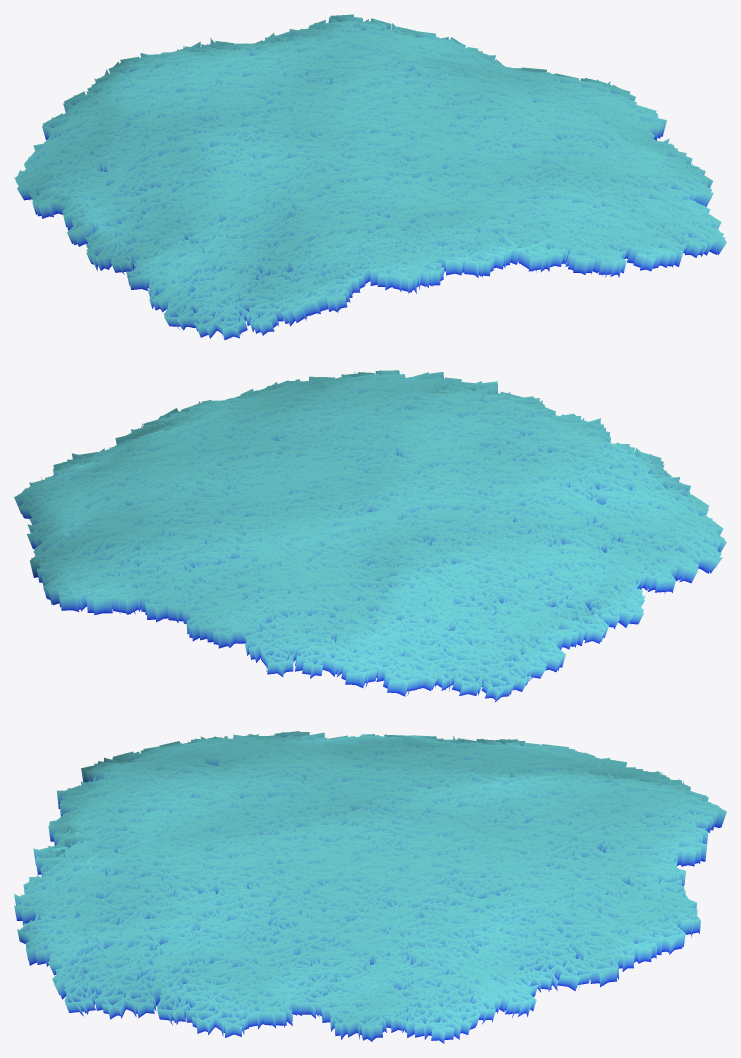
The model's file is SM_Env_Grass_Large_03.FBX.
3 views of the same model, one above another, from view 1: azimuth 30°, elevation 25°; view 2: azimuth 150°, elevation 25°; view 3: azimuth 270°, elevation 25° (orthographic). The views are drawn at different scales.
Visible parts, largest first — view 1: SM_Env_Grass_Large_03; view 2: SM_Env_Grass_Large_03; view 3: SM_Env_Grass_Large_03.
Part boxes in pixels (x1,y1,x2,y2): SM_Env_Grass_Large_03: (14,14,726,339); SM_Env_Grass_Large_03: (14,370,726,702); SM_Env_Grass_Large_03: (14,731,726,1043).
Size of the model in its own units: 3452 by 3471 by 406.
